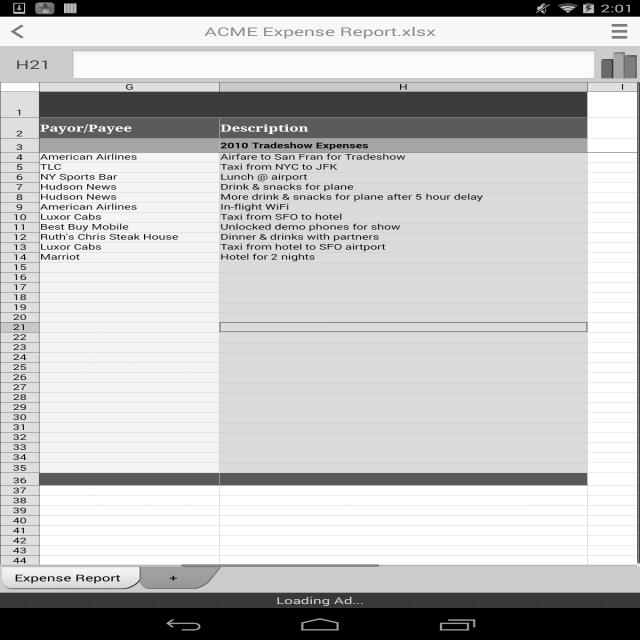Button: (2, 566, 140, 590), (140, 567, 221, 589)
EditText: (0, 82, 640, 566), (70, 50, 598, 82)
ImageButton: (0, 17, 47, 46), (598, 17, 640, 46)
ImageView: (597, 52, 640, 80)
TextView: (181, 23, 459, 39), (0, 55, 70, 72), (276, 594, 364, 607)
